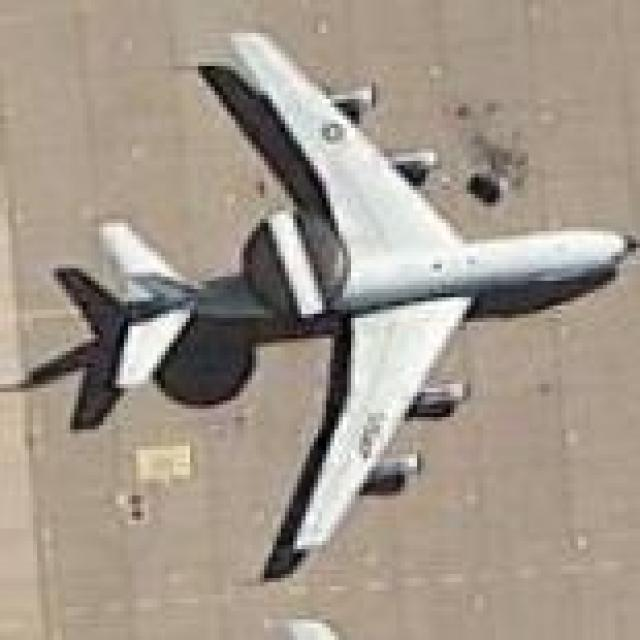E-3_TopDown: (0, 25, 636, 582)
